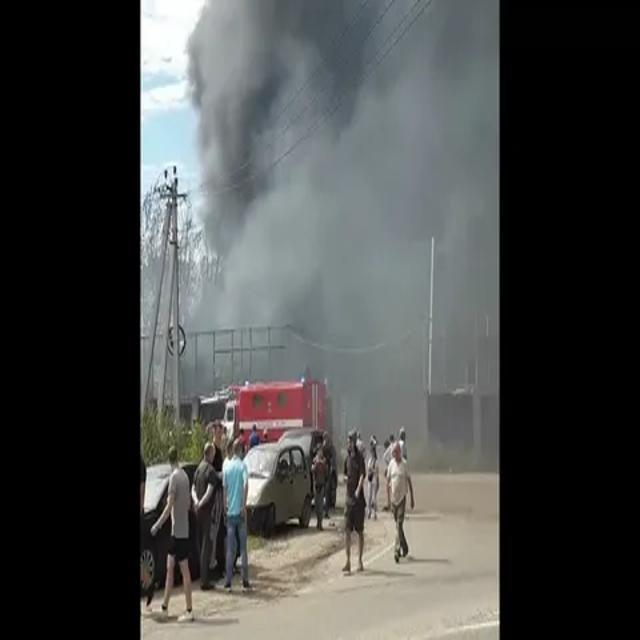Smoke: (188, 1, 498, 428)
